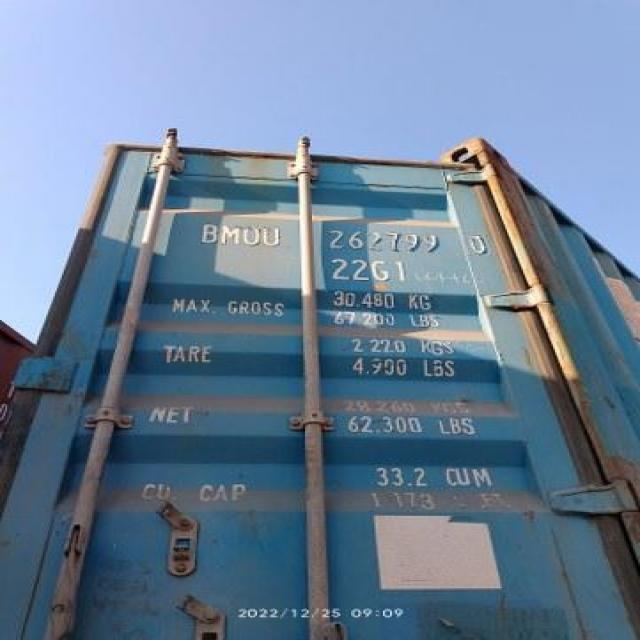ISO: (326, 249, 409, 285)
container_number: (197, 222, 483, 250)
